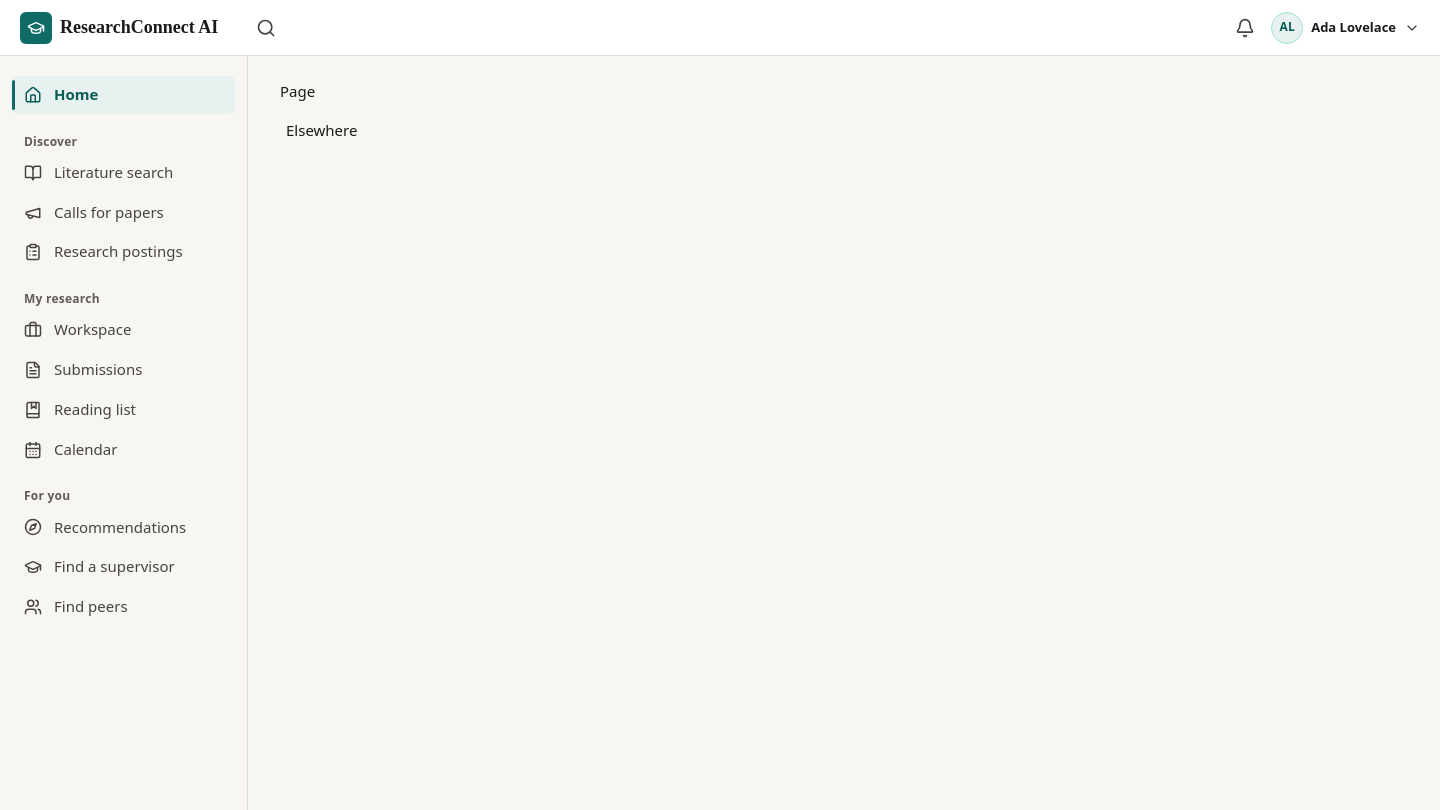
Test: the bell's panel › has its links the moment it opens, so Tab after Enter lands inside it
This screenshot has width=1440, height=810.
Click the button named "Notifications": (1245, 28) [1227,10,1263,46]
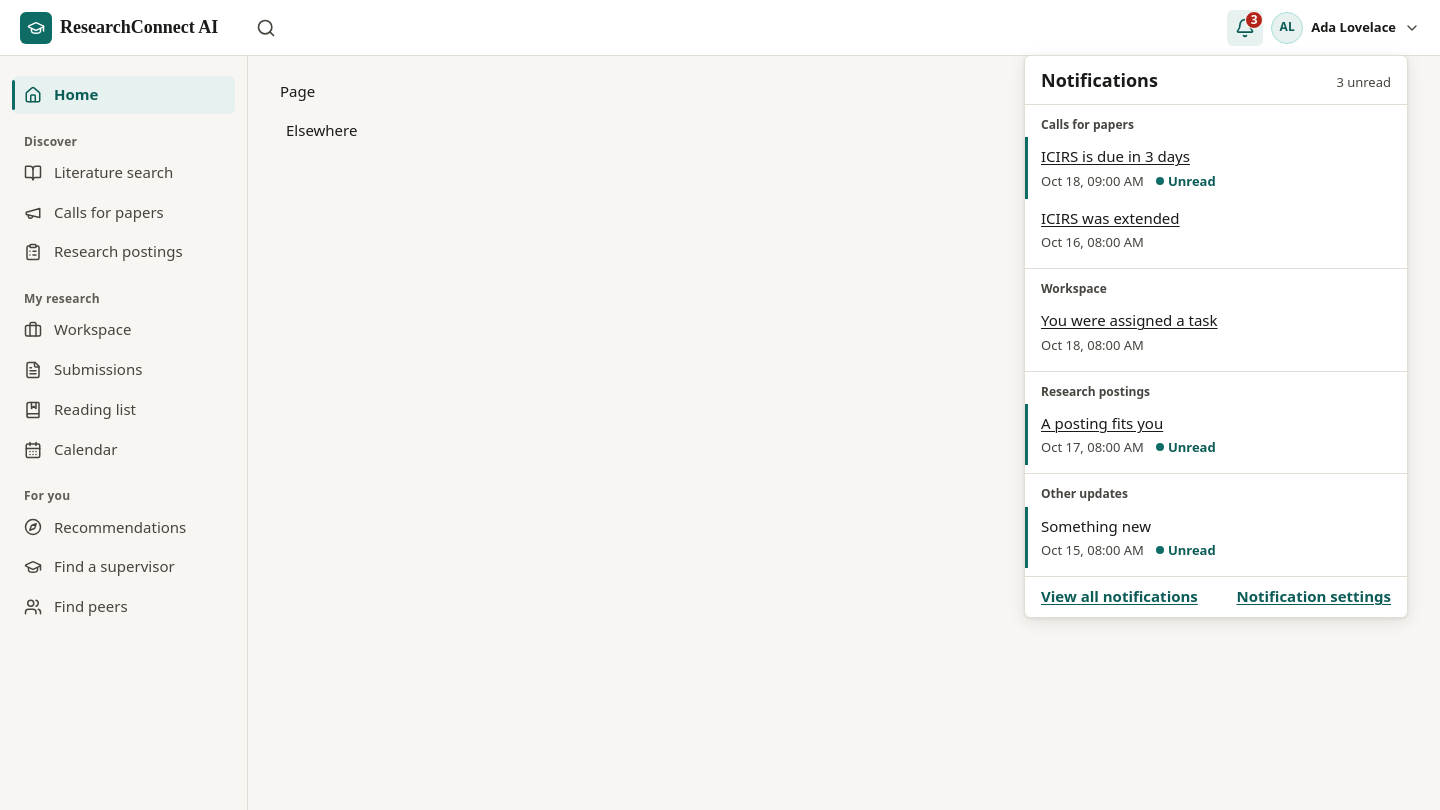
Check: the link "View all notifications" is shown, box [1041,585,1198,609]
Check: the heading "Notifications" is shown, box [1041,68,1158,92]
